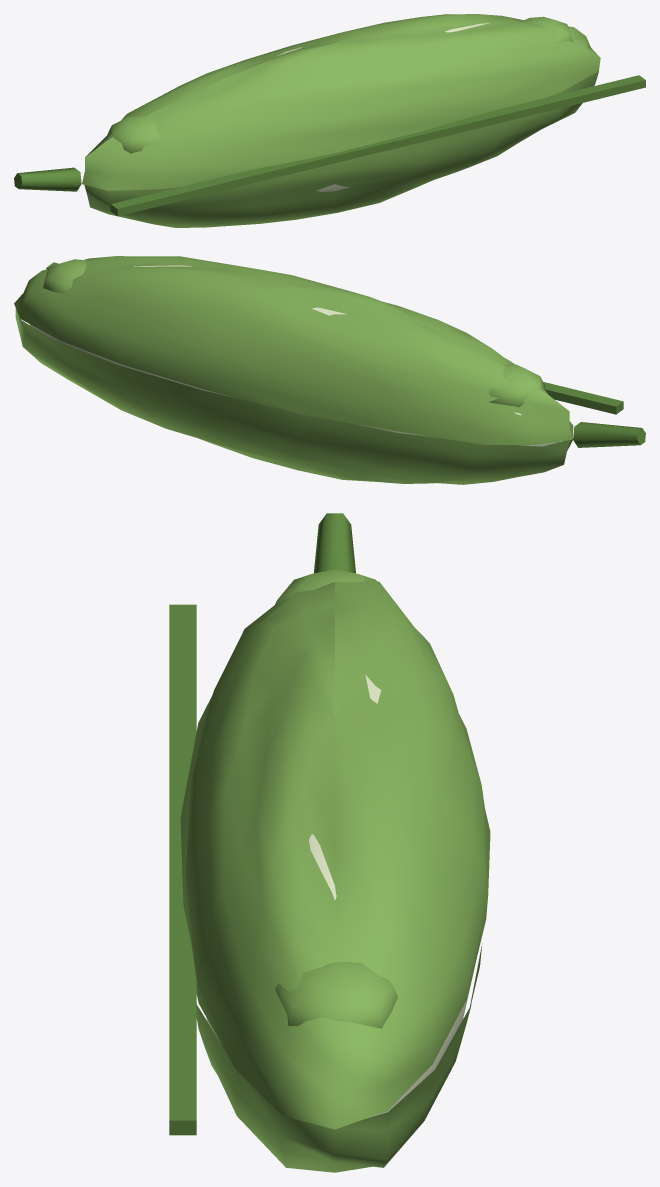
The model's file is vaina-haba.glb.
The picture shows the model from 3 angles, top to bottom: view 1: azimuth 30°, elevation 25°; view 2: azimuth 150°, elevation 25°; view 3: azimuth 270°, elevation 25°; orthographic projection. The views are drawn at different scales.
Parts seen in each view (by area): view 1: tapa, abajo, costura, rabo, bulto0, bulto4; view 2: tapa, abajo, rabo, bulto0, costura, bulto4, forro; view 3: tapa, costura, abajo, bulto4, rabo, bulto0.
Part boxes in pixels (x1,y1,x2,y2): tapa: (82, 14, 600, 190); abajo: (84, 71, 598, 227); costura: (110, 75, 645, 216); rabo: (14, 167, 81, 191); bulto0: (107, 116, 160, 153); bulto4: (523, 16, 572, 44); tapa: (14, 256, 573, 444); abajo: (15, 308, 572, 484); rabo: (573, 422, 645, 447); bulto0: (489, 363, 545, 407); costura: (46, 262, 623, 414); bulto4: (42, 259, 86, 293); forro: (29, 324, 559, 446); tapa: (180, 580, 490, 1129); costura: (169, 604, 196, 1135); abajo: (196, 943, 482, 1172); bulto4: (275, 962, 397, 1028); rabo: (313, 513, 355, 573); bulto0: (274, 569, 376, 606).
Bounding box in the file's own units: 1 × 0.261 × 0.2367.
